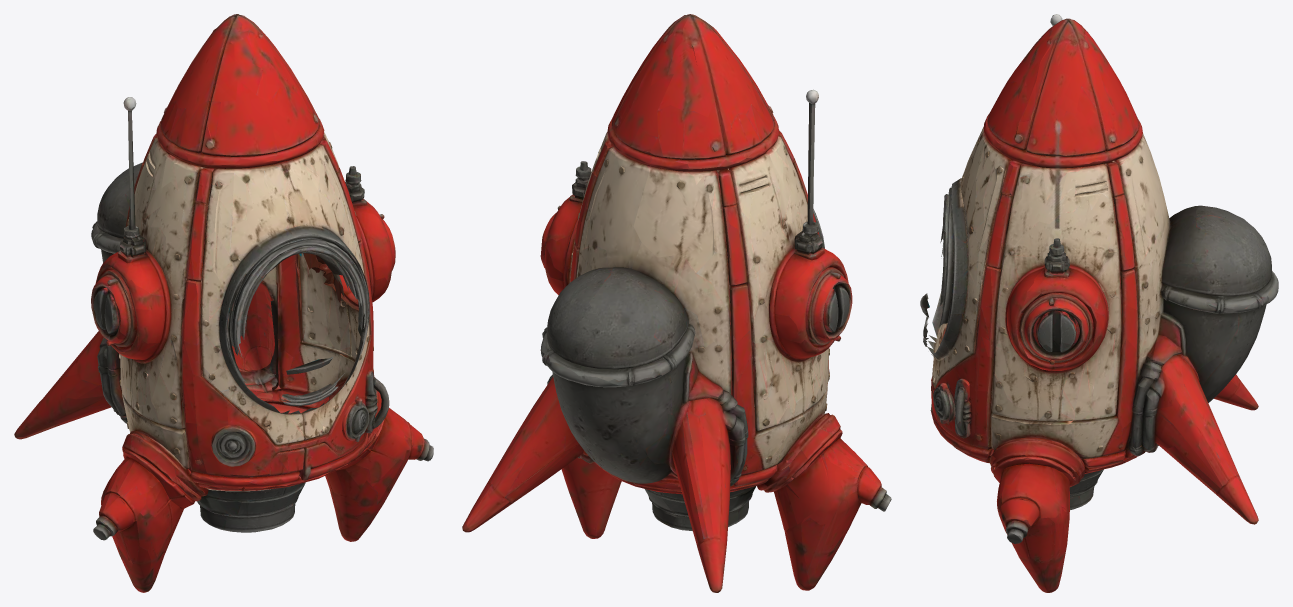
The model's file is ride_rocket.glb.
The picture shows the model from 3 angles, left to right: view 1: azimuth 30°, elevation 25°; view 2: azimuth 150°, elevation 25°; view 3: azimuth 270°, elevation 25°; orthographic projection. The views are drawn at different scales.
Parts seen in each view (by area): view 1: Mesh_0; view 2: Mesh_0; view 3: Mesh_0.
Part boxes in pixels (x1,y1,x2,y2): Mesh_0: (14, 14, 433, 592); Mesh_0: (462, 14, 891, 592); Mesh_0: (920, 14, 1278, 592).
Size of the model in its own units: 1.24 by 1.9 by 1.18.
Materials: 1 (1 with a texture image).
